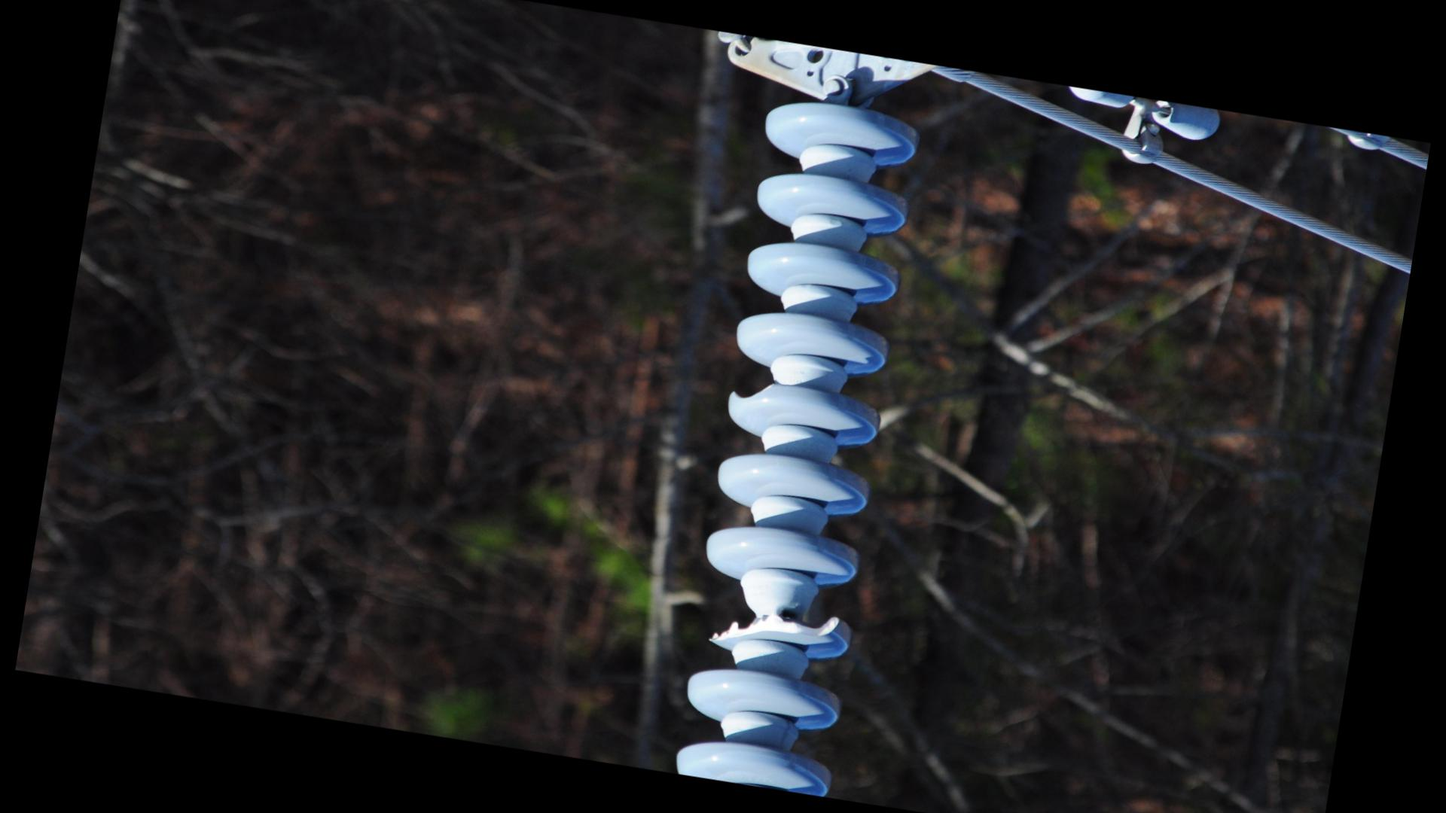damper: (1048, 84, 1231, 187)
